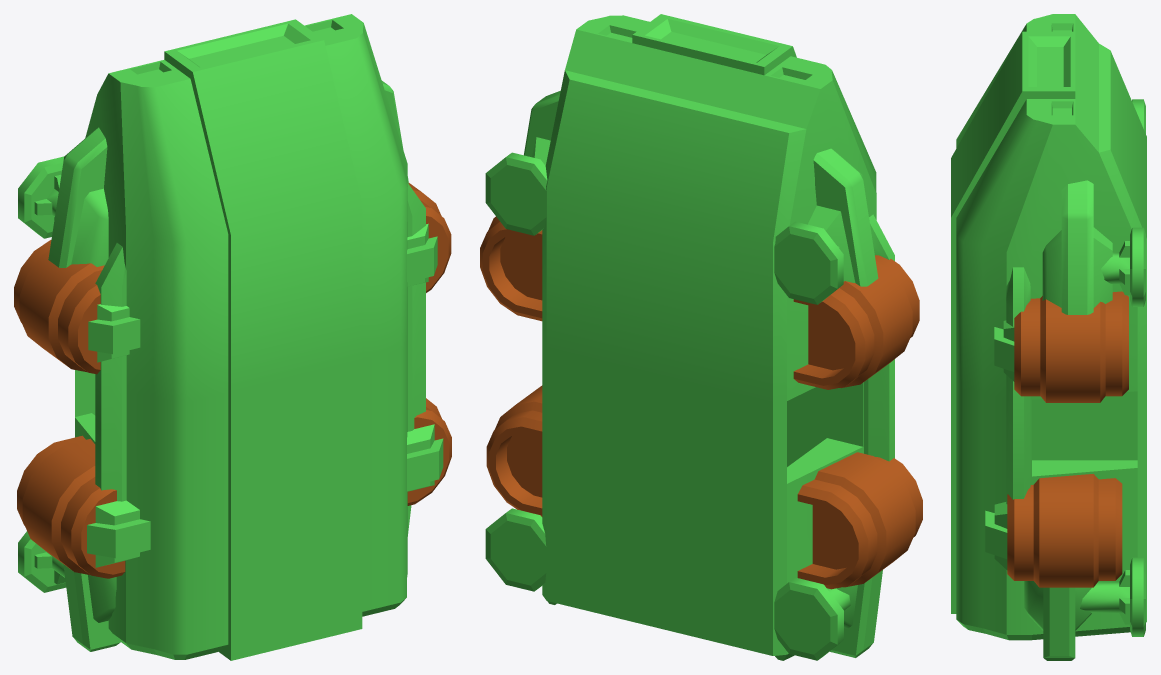
Rendered from Ship.obj.
3 views of the same model, side by side, from view 1: azimuth 30°, elevation 25°; view 2: azimuth 150°, elevation 25°; view 3: azimuth 270°, elevation 25° (orthographic). The views are drawn at different scales.
Visible parts, largest first — view 1: Ship_Hull, Left_Back_Thruster, Left_Front_Thruster, Left_Front_Wing, Left_Top_Bar, Back_Left_wing, Right_Top_Bar, Left_back_Conector, Left_Front_Conector, Front_Left_Foot, Right_Back_Conector, Right_Front_Conector (+3 smaller); view 2: Ship_Hull, Left_Back_Thruster, Left_Front_Thruster, Left_Front_Wing, Right_Back_Thruster, Right_Front_Thruster, Front_Left_Foot, Back_Left_foot, Front_Right_Foot, Back_Right_Foot, Left_Top_Bar, Back_Left_wing (+1 smaller); view 3: Ship_Hull, Right_Back_Thruster, Right_Front_Thruster, Right_Front_Wing, Right_Top_Bar, Back_Right_Wing, Right_Back_Leg, Back_Right_Foot, Front_Right_Foot, Right_Back_Conector, Right_Front_Conector, Right_Front_Leg.
Part boxes in pixels (<box>): Ship_Hull: <box>75,14,407,660</box>; Left_Back_Thruster: <box>17,435,125,578</box>; Left_Front_Thruster: <box>14,240,104,374</box>; Left_Front_Wing: <box>48,127,108,267</box>; Left_Top_Bar: <box>95,243,126,501</box>; Back_Left_wing: <box>63,564,120,651</box>; Right_Top_Bar: <box>407,183,425,431</box>; Left_back_Conector: <box>87,500,150,567</box>; Left_Front_Conector: <box>88,304,140,362</box>; Front_Left_Foot: <box>18,156,64,238</box>; Right_Back_Conector: <box>407,424,443,491</box>; Right_Front_Conector: <box>407,223,437,286</box>; Ship_Hull: <box>542,14,876,660</box>; Left_Back_Thruster: <box>797,452,922,589</box>; Left_Front_Thruster: <box>793,255,919,389</box>; Left_Front_Wing: <box>808,148,878,286</box>; Right_Back_Thruster: <box>486,385,542,516</box>; Right_Front_Thruster: <box>480,216,542,321</box>; Front_Left_Foot: <box>774,221,843,304</box>; Back_Left_foot: <box>774,577,843,660</box>; Front_Right_Foot: <box>485,152,547,235</box>; Back_Right_Foot: <box>485,508,546,591</box>; Left_Top_Bar: <box>864,214,894,461</box>; Back_Left_wing: <box>830,570,882,657</box>; Ship_Hull: <box>951,14,1146,640</box>; Right_Back_Thruster: <box>1007,474,1122,587</box>; Right_Front_Thruster: <box>1014,291,1128,402</box>; Right_Front_Wing: <box>1042,180,1112,314</box>; Right_Top_Bar: <box>1006,267,1030,503</box>; Back_Right_Wing: <box>1024,581,1091,660</box>; Right_Back_Leg: <box>1080,570,1129,624</box>; Back_Right_Foot: <box>1130,557,1145,636</box>; Front_Right_Foot: <box>1130,227,1145,306</box>; Right_Back_Conector: <box>985,502,1007,569</box>; Right_Front_Conector: <box>994,320,1014,381</box>; Right_Front_Leg: <box>1101,241,1129,295</box>.
Size of the model in its own units: 1205 by 1654 by 554.
